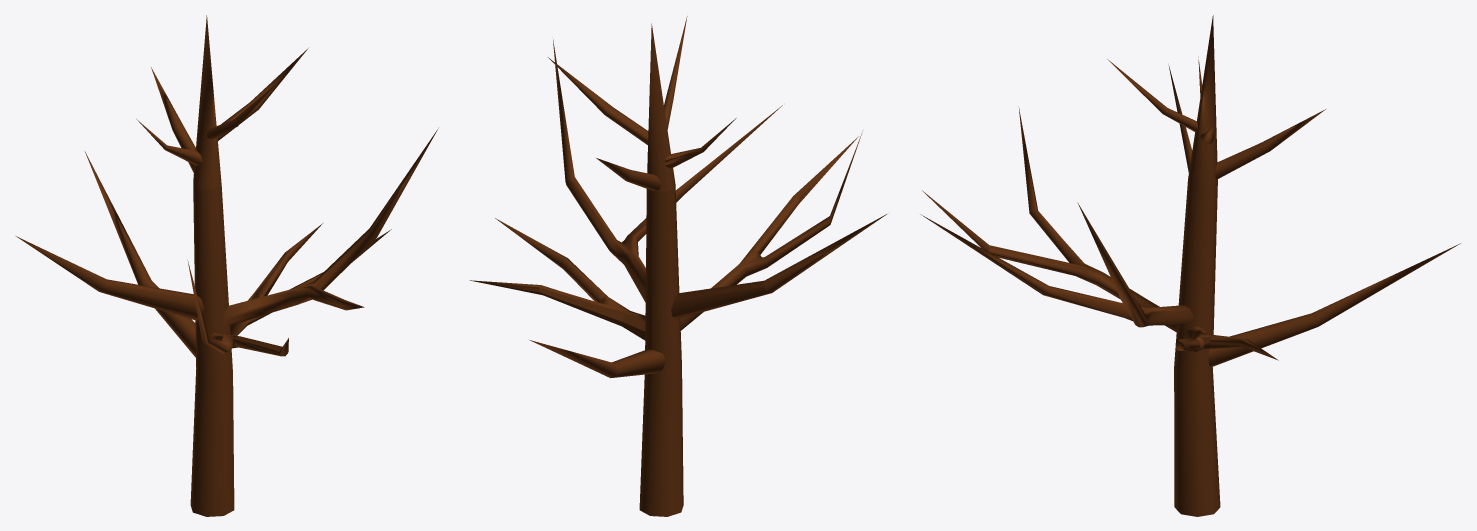
The model's file is tree_trunk.glb.
3 renders of one model, left to right at view 1: azimuth 30°, elevation 25°; view 2: azimuth 150°, elevation 25°; view 3: azimuth 270°, elevation 25°, orthographic.
Visible parts, largest first — view 1: trunk; view 2: trunk; view 3: trunk.
Part boxes in pixels (x1=…): trunk: x1=16, y1=15, x2=438, y2=516; trunk: x1=469, y1=16, x2=886, y2=516; trunk: x1=920, y1=15, x2=1460, y2=516.
Bounding box in the file's own units: 8.03 × 9.69 × 9.68.
